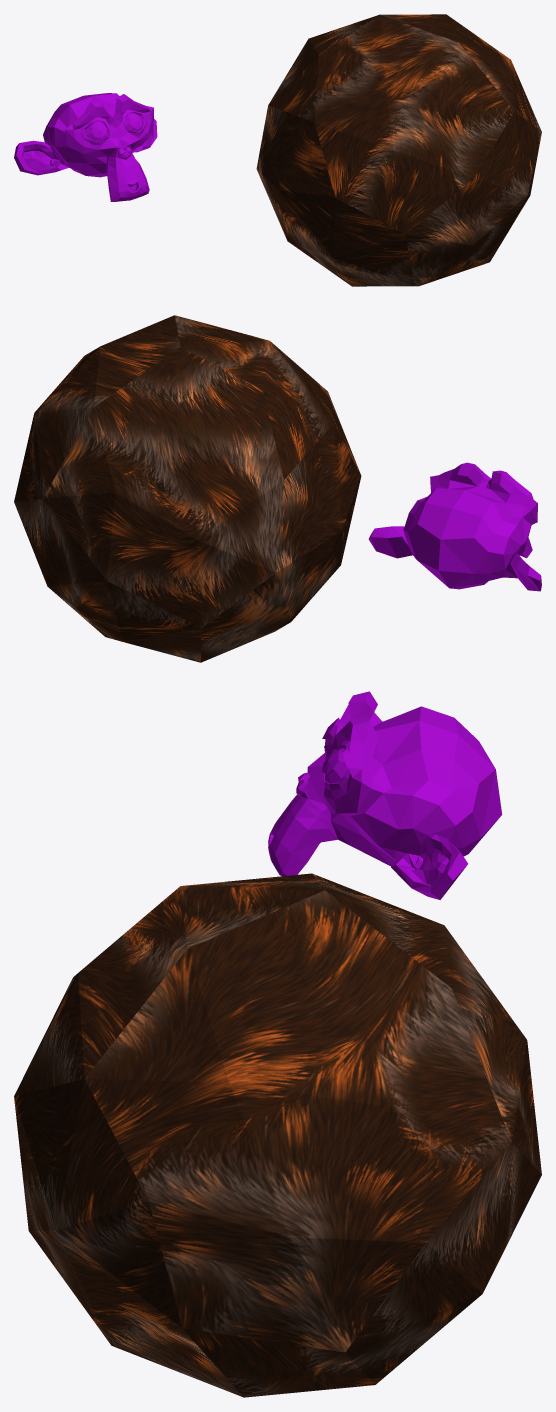
The model's file is ball_03.dae.
3 views of the same model, one above another, from view 1: azimuth 30°, elevation 25°; view 2: azimuth 150°, elevation 25°; view 3: azimuth 270°, elevation 25° (orthographic). The views are drawn at different scales.
Parts seen in each view (by area): view 1: Icosphere, Suzanne; view 2: Icosphere, Suzanne; view 3: Icosphere, Suzanne.
Boxes of the visible parts, bbox=[...] form: Icosphere: bbox=[256, 14, 541, 286]; Suzanne: bbox=[14, 93, 157, 201]; Icosphere: bbox=[14, 315, 361, 662]; Suzanne: bbox=[368, 462, 541, 591]; Icosphere: bbox=[14, 873, 541, 1397]; Suzanne: bbox=[268, 691, 502, 899].
Bounding box in the file's own units: 3.71 × 1.97 × 1.97.
